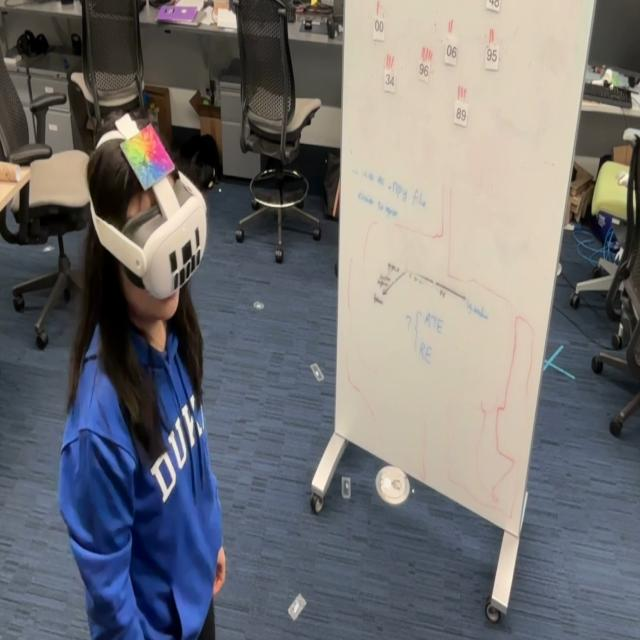Headset: (86, 128, 208, 300)
Marker: (118, 119, 176, 193)
